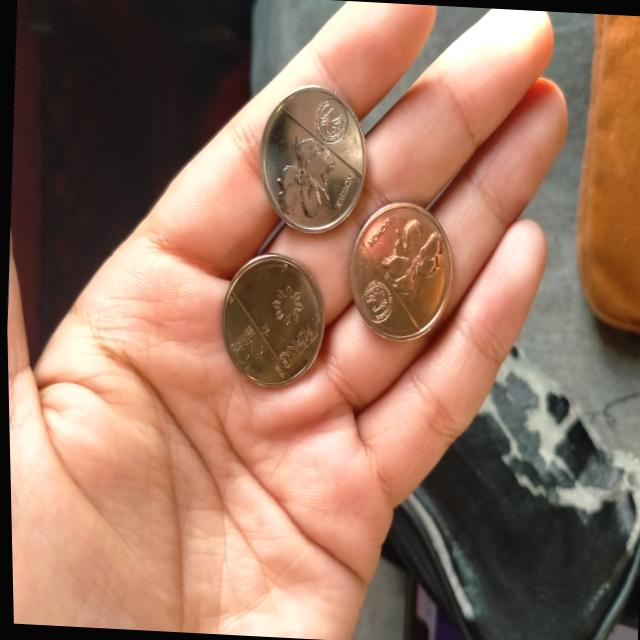25Cent_New_Back: (269, 130, 344, 229), (377, 223, 453, 307)
25Cent_New_Front: (215, 314, 272, 378)
